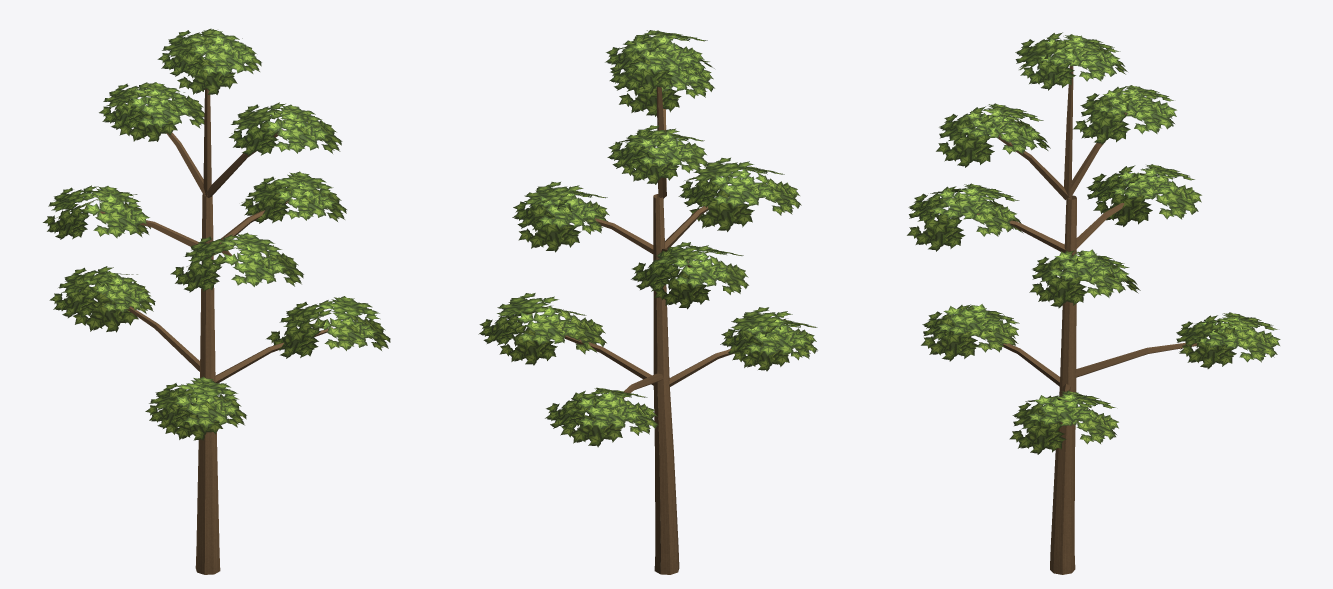
The model's file is maple_big.glb.
3 views of the same model, side by side, from view 1: azimuth 30°, elevation 25°; view 2: azimuth 150°, elevation 25°; view 3: azimuth 270°, elevation 25° (orthographic).
Parts seen in each view (by area): view 1: maple_big; view 2: maple_big; view 3: maple_big.
Boxes of the visible parts, x1=… form: maple_big: x1=43, y1=28, x2=390, y2=574; maple_big: x1=478, y1=30, x2=817, y2=574; maple_big: x1=907, y1=32, x2=1280, y2=574.
Bounding box in the file's own units: 5.3 × 7.9 × 5.88.
2 materials, 2 textured.
